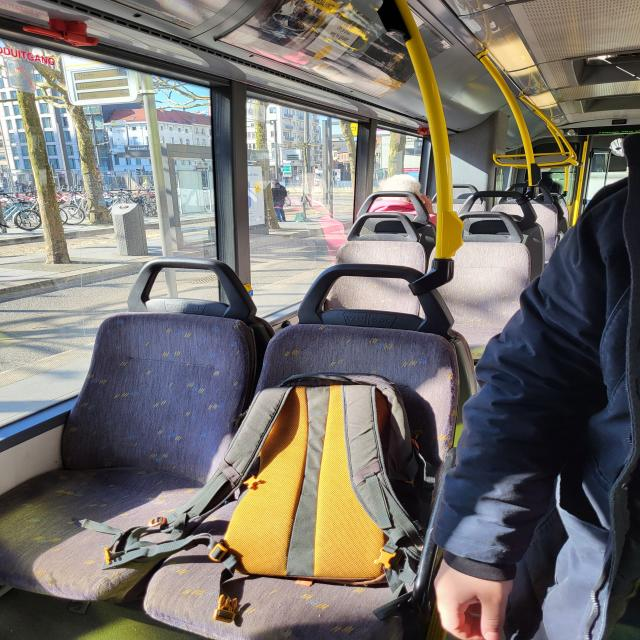empty-seat-frontal: (0, 258, 267, 608)
